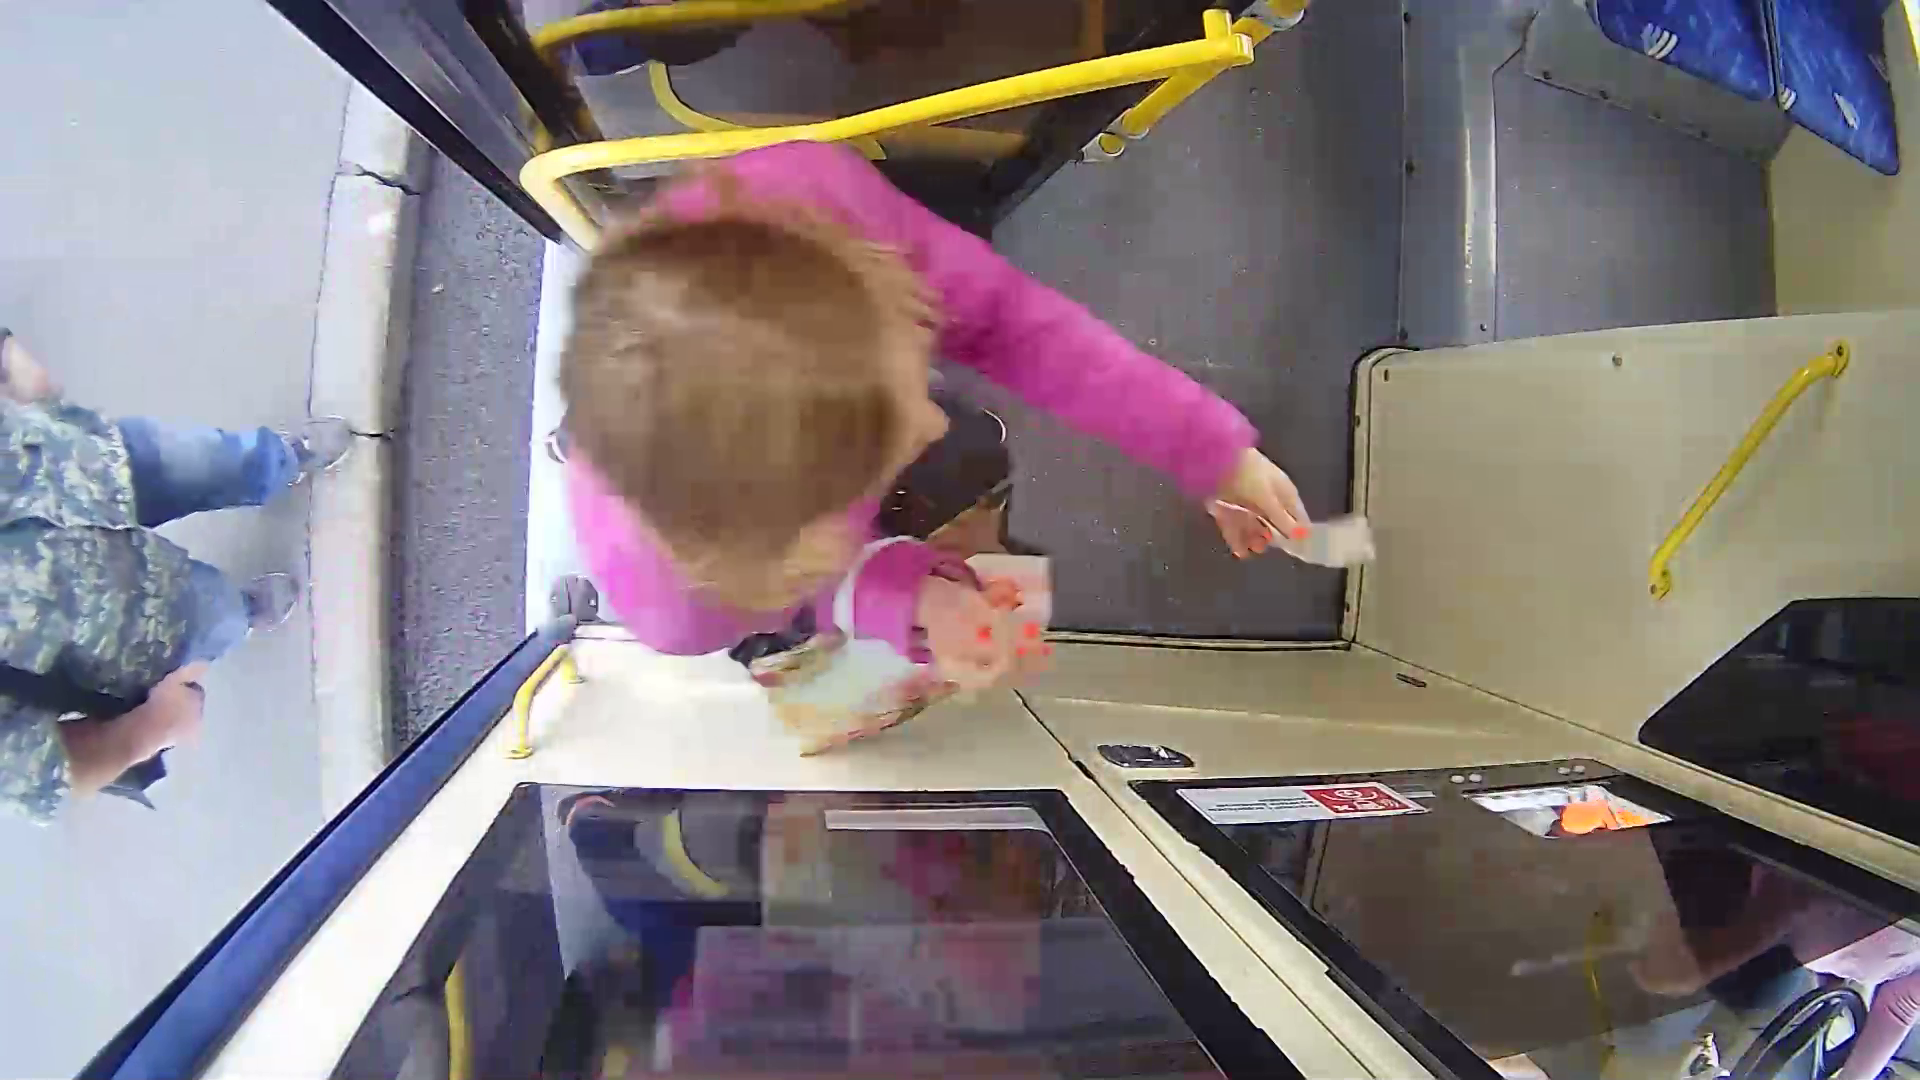person: (501, 149, 1484, 791)
